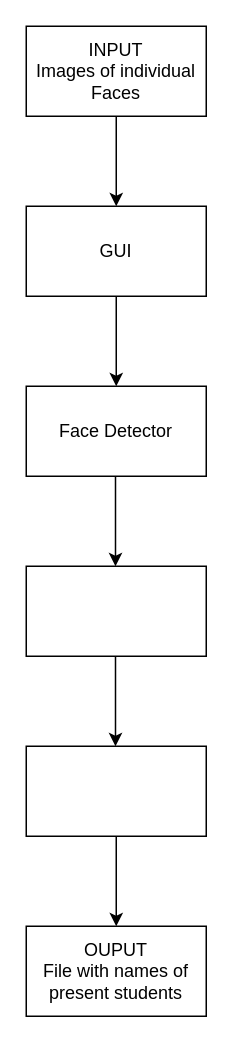
The diagram is 233 pixels wide and 1043 high, and some of its shapes have lost their labels. Each missing label, with the centre of its shape:
"Backend" belongs at (115,790).
"Face Recognizer" belongs at (115,610).
